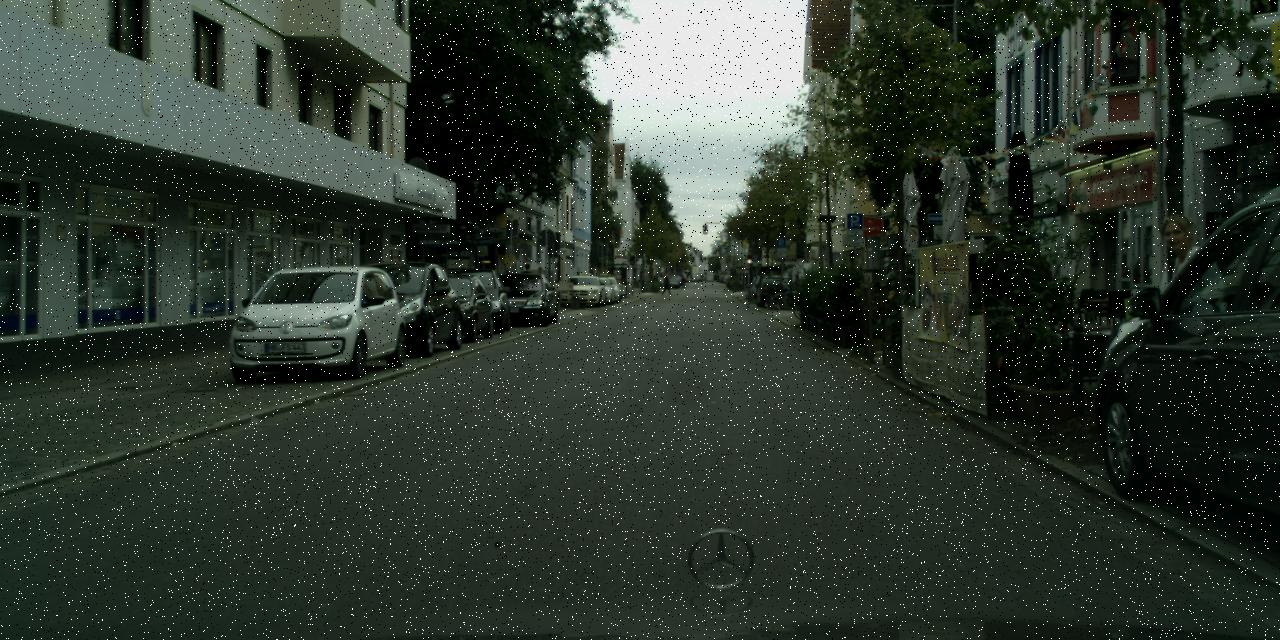ped: (1145, 213, 1227, 414), (520, 263, 536, 303), (501, 268, 516, 304), (534, 266, 549, 302), (661, 273, 670, 295), (786, 269, 794, 290), (794, 270, 801, 288), (680, 274, 686, 287)
